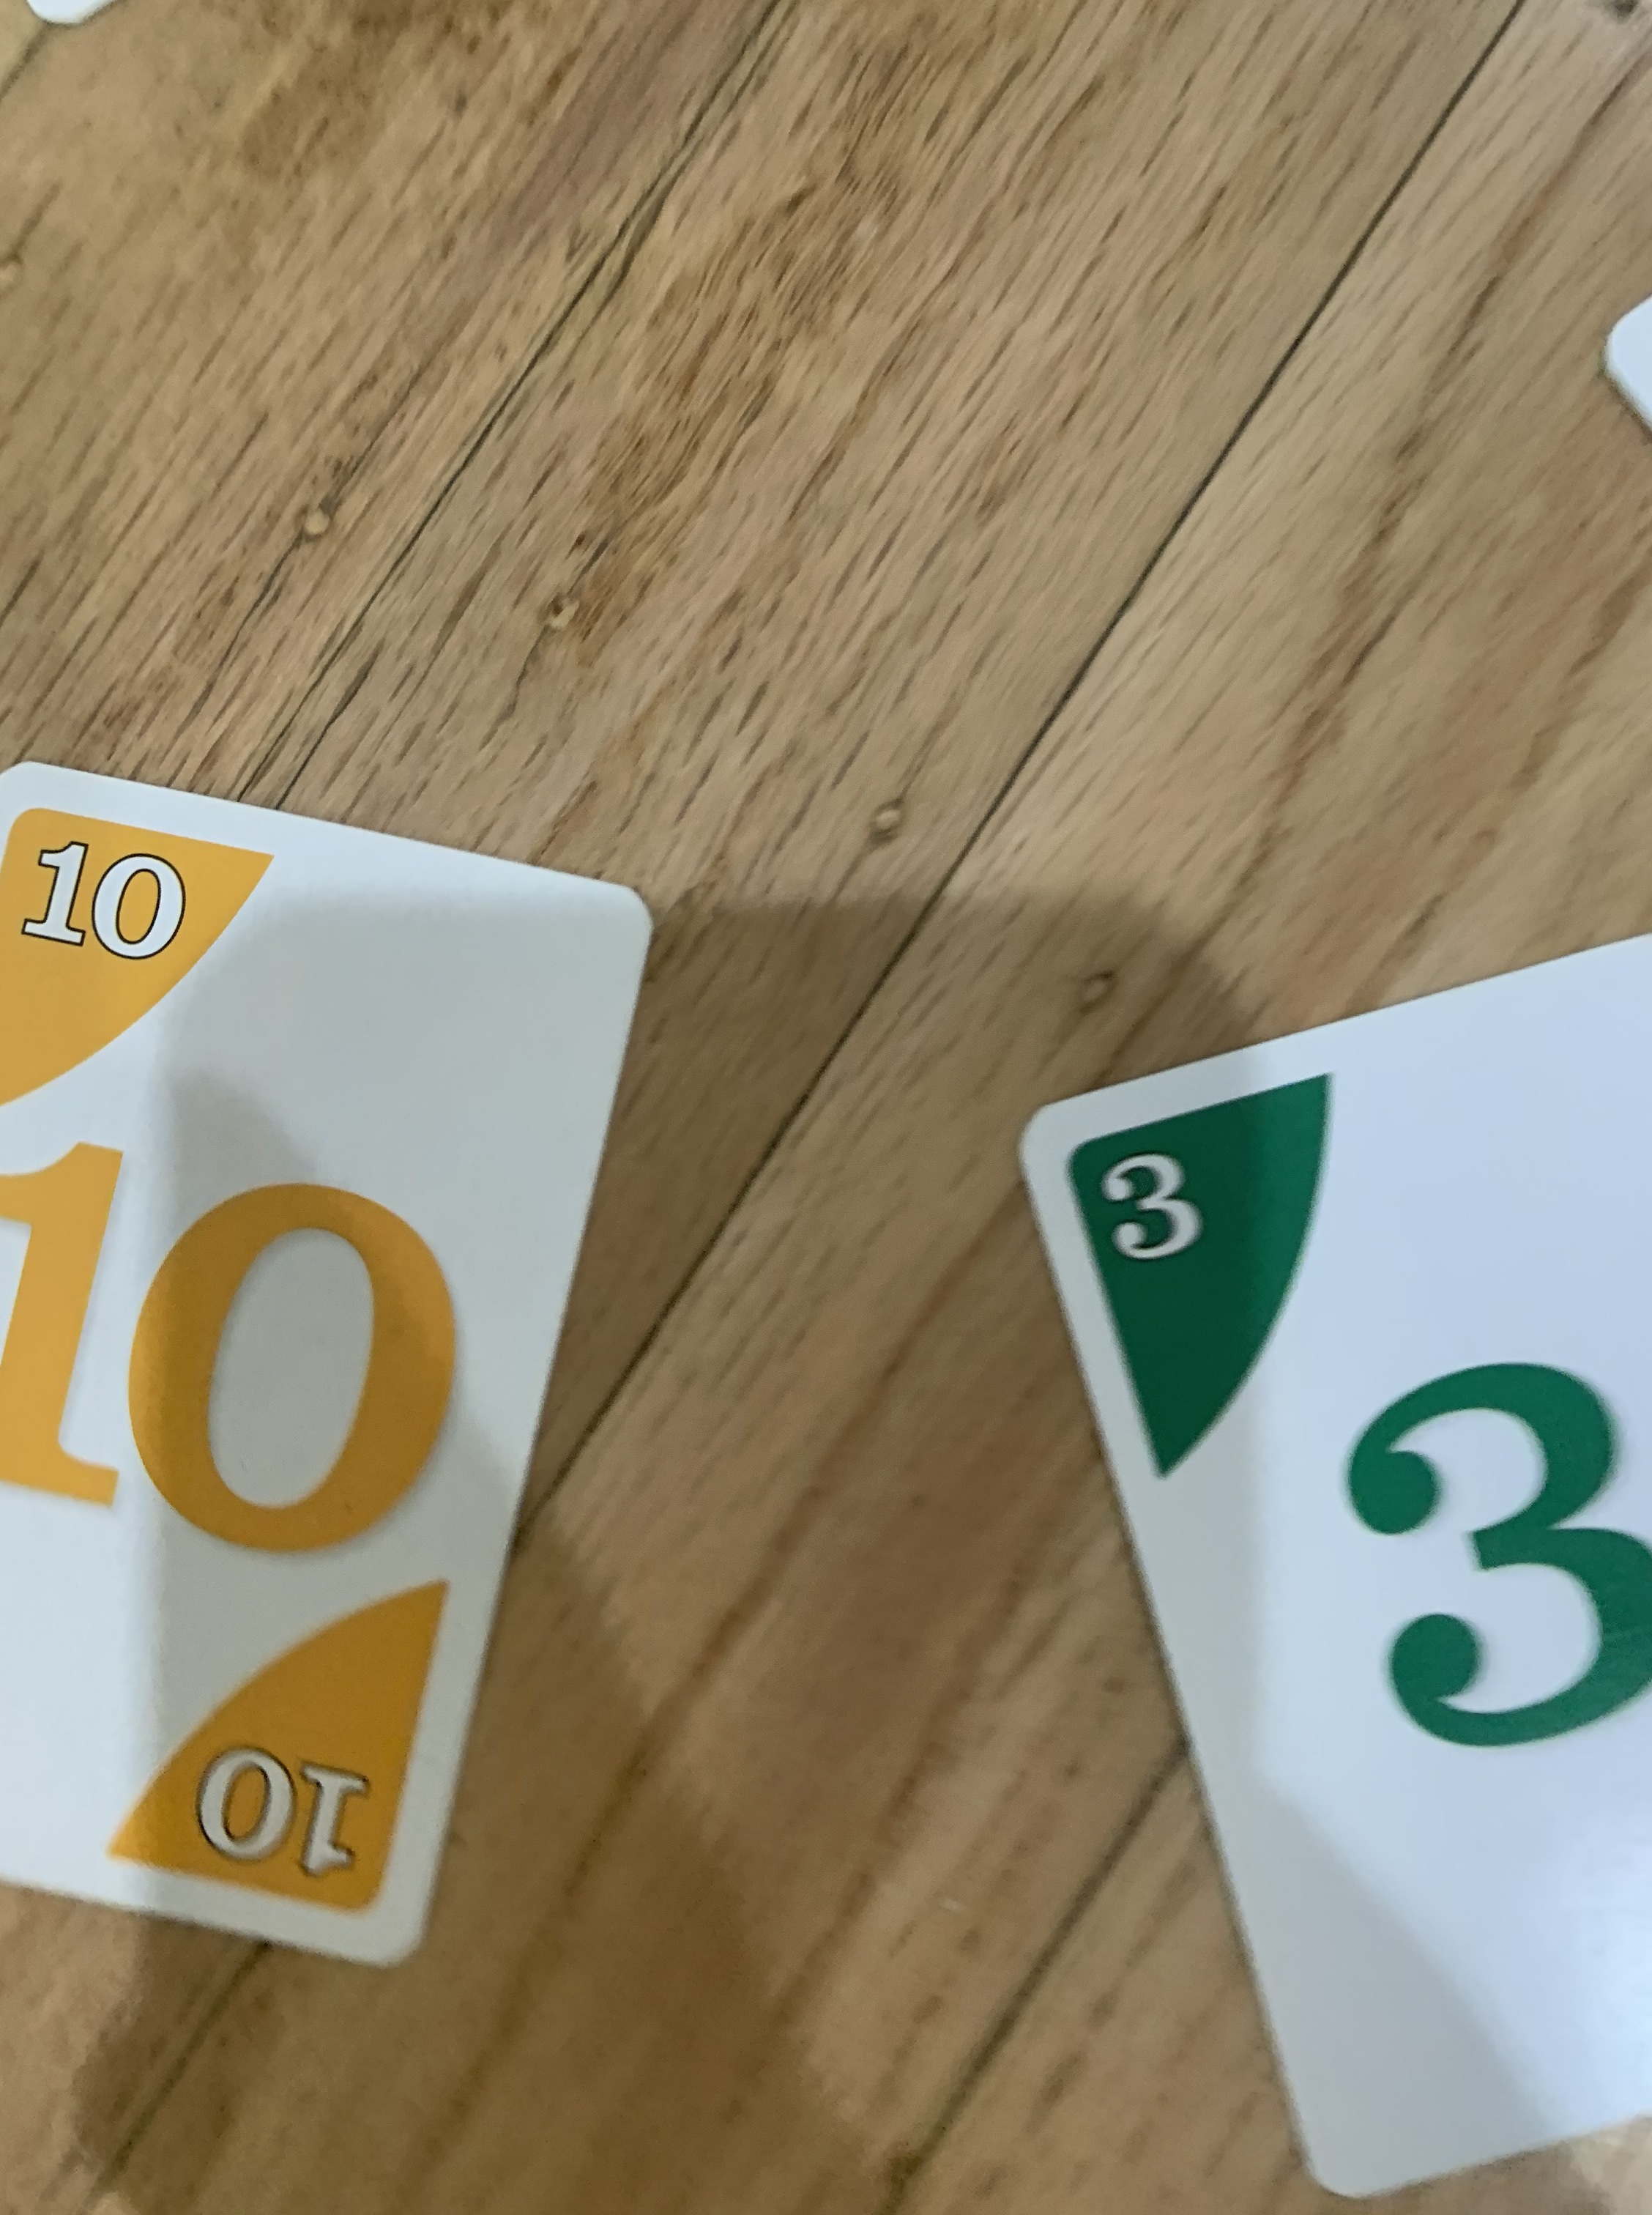ten: (3, 755, 658, 1969)
three: (1017, 917, 1650, 2199)
